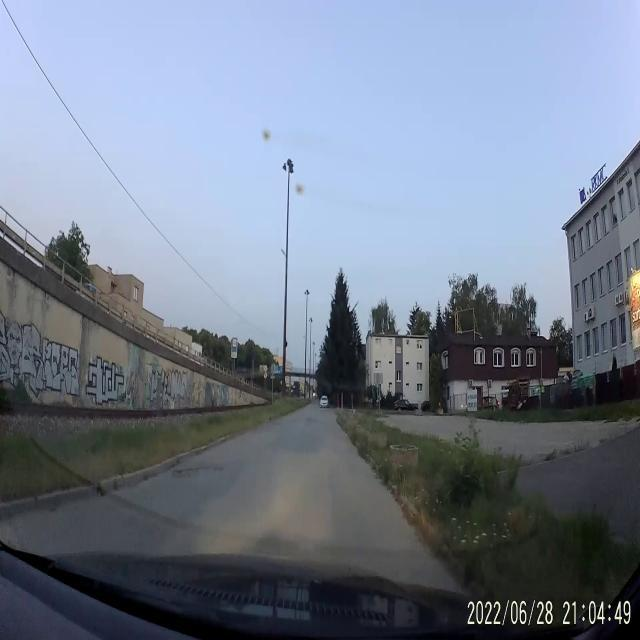Pothole: (172, 463, 222, 483)
